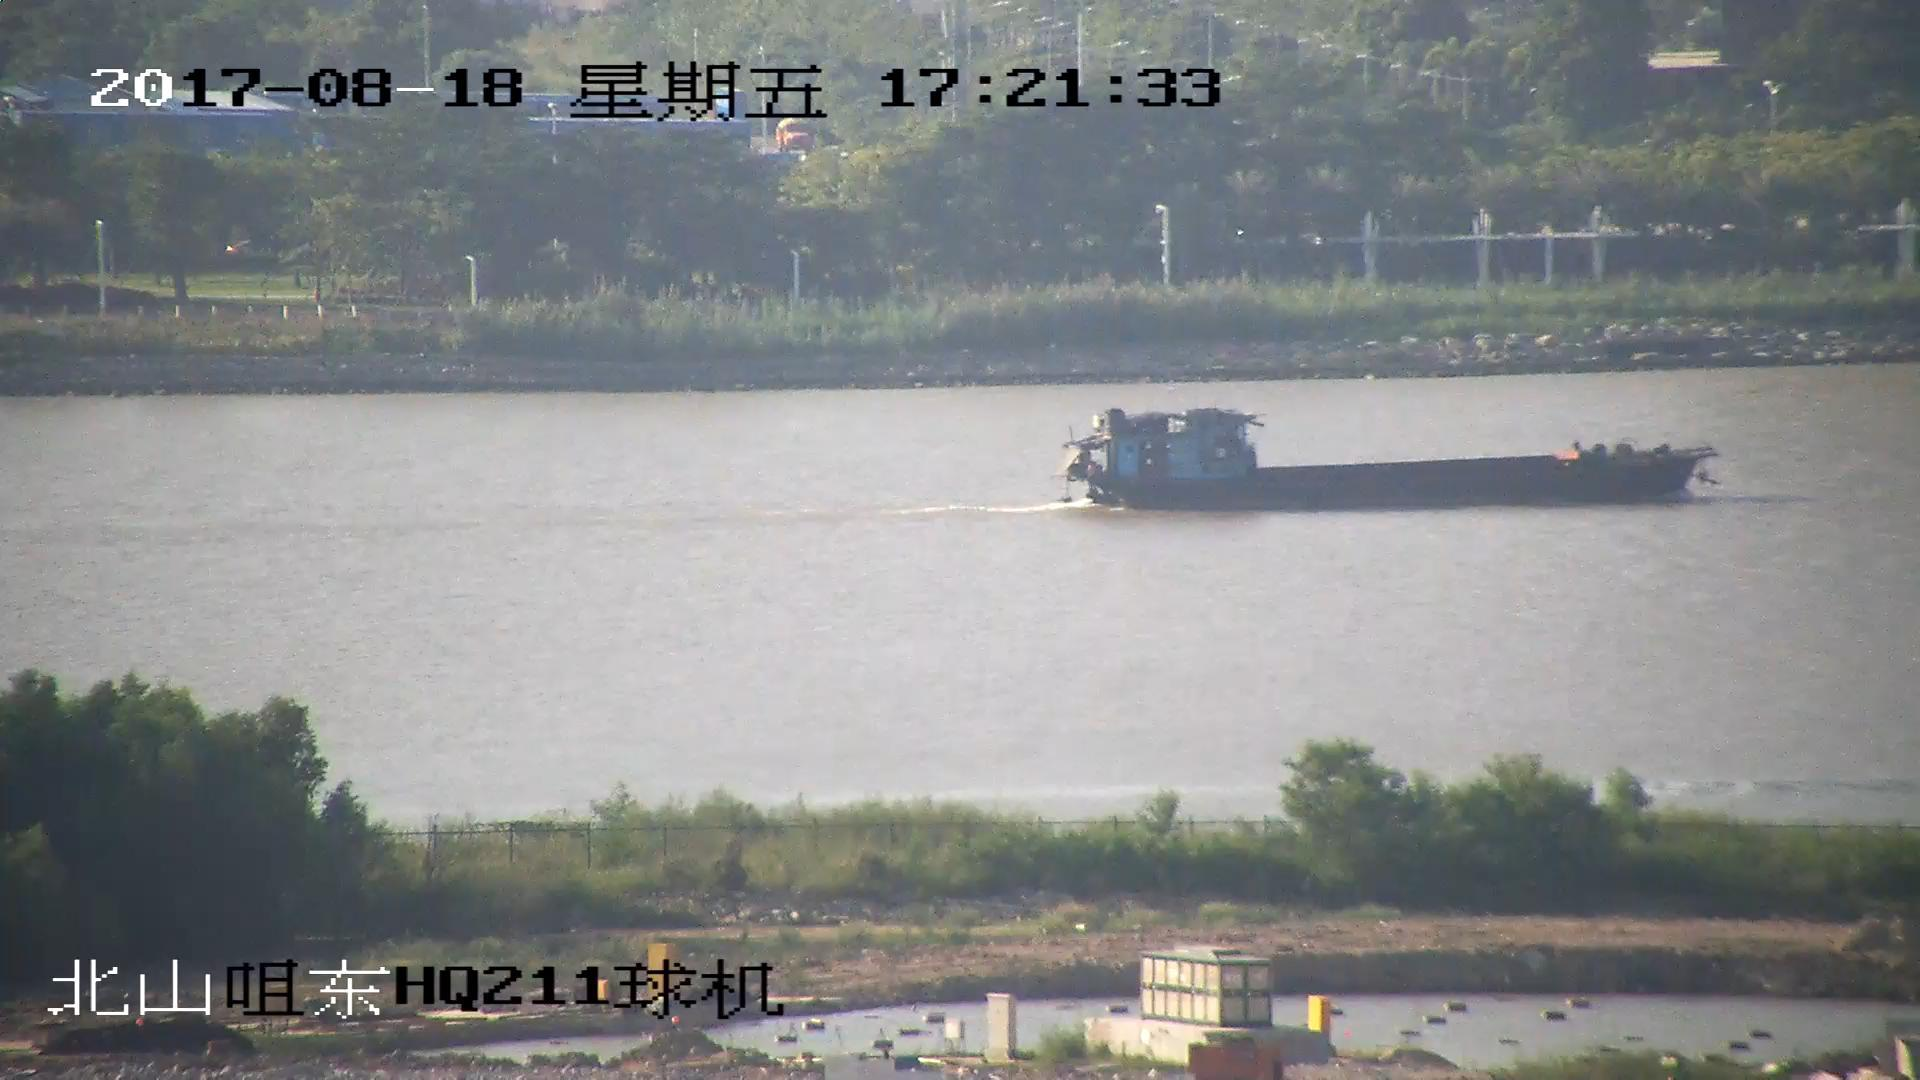Ship: (1058, 415, 1720, 513)
